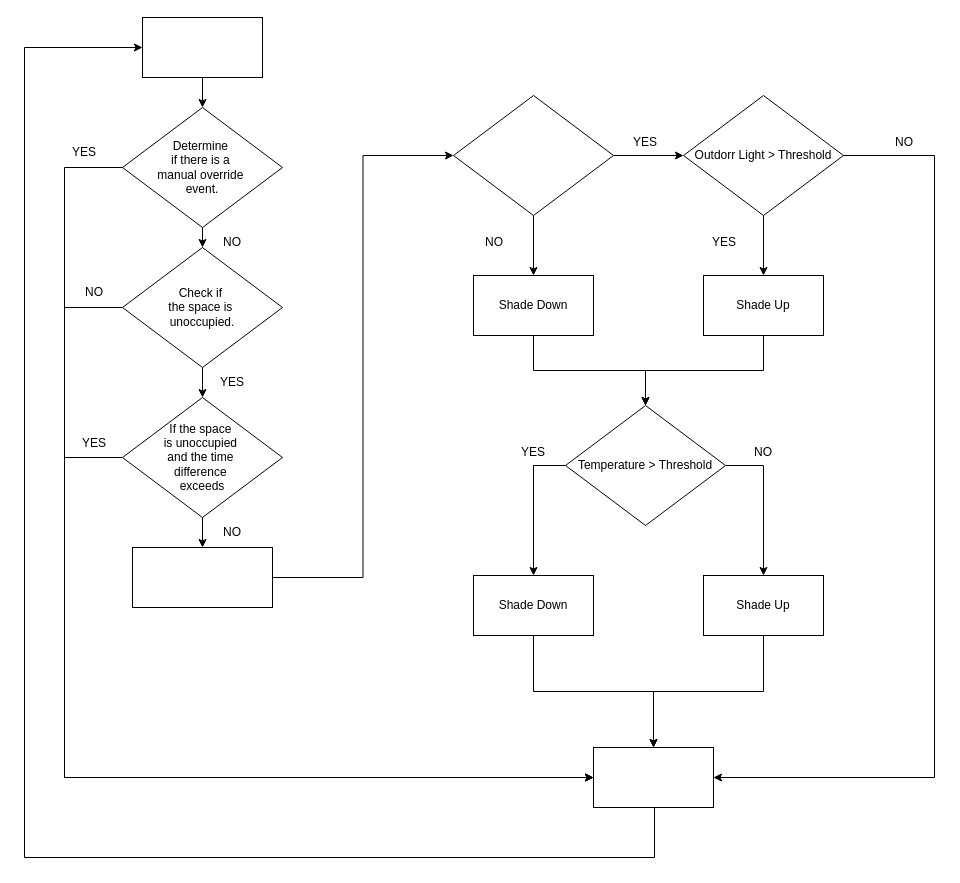
The diagram is 960 pixels wide and 883 high, and some of its shapes have lost their labels. The shapes that lost their labels are listed below. From the top down, each one's box as (x1, y1, x2, y2) in pixels, then its label:
(142, 16, 262, 78): Shade Automation
(452, 94, 614, 216): Indoor Light < Target
(132, 546, 272, 608): update last_occupied_time to the current time
(592, 746, 714, 808): Wait 60 seconds for next cycle
